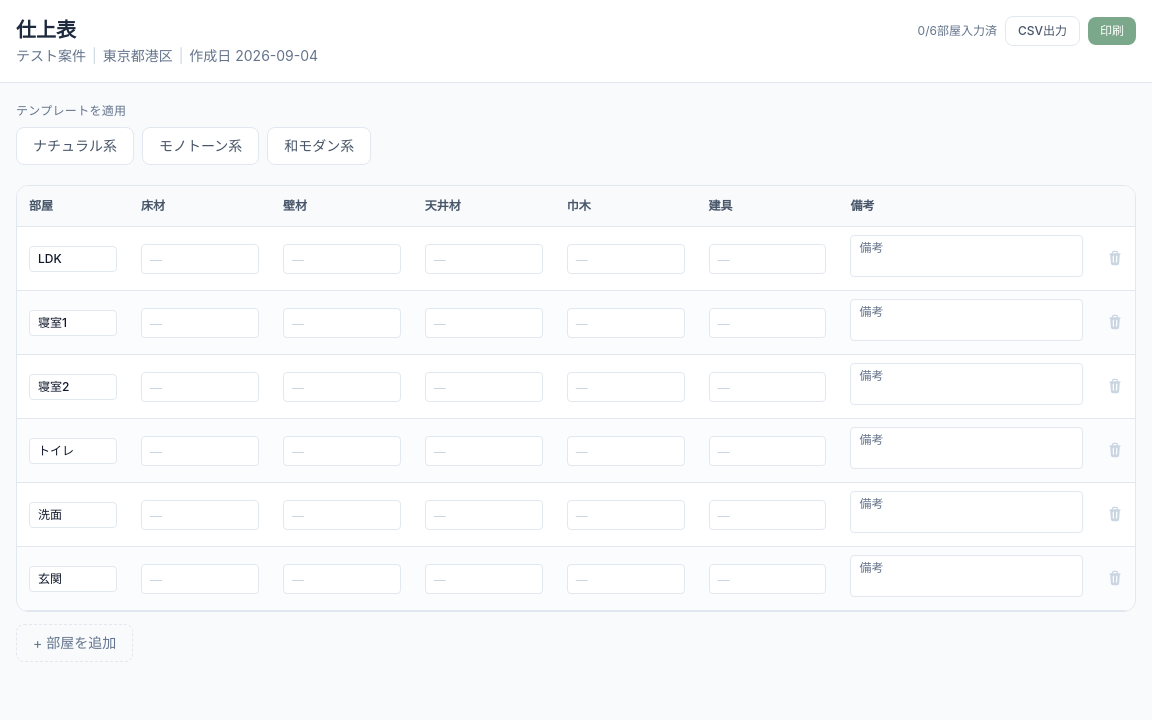
Test: FinishingSchedulePage — セル編集 › ドロップダウンから候補を選択するとセルに反映される
Click the 1st button with test id "cell-button-床材".
click(200, 258)  # box [141,244,259,274]
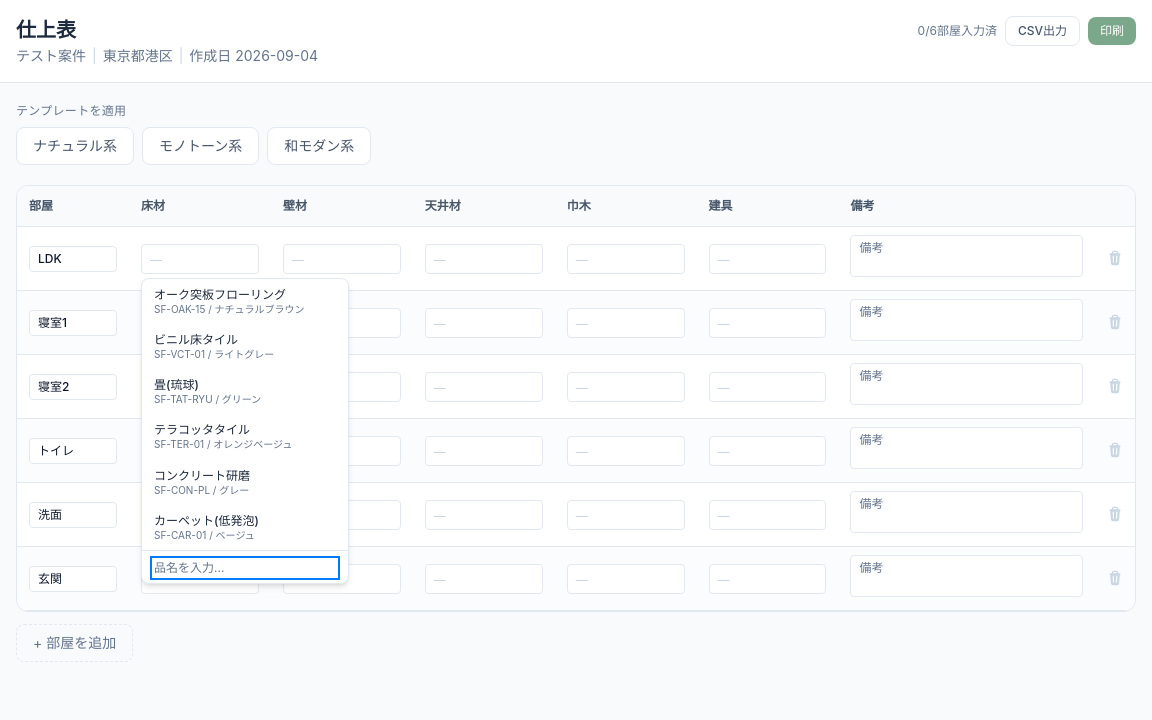
Expected: the element with test id "cell-dropdown-床材" is shown, [141,278,349,584]
Click the button "オーク突板フローリング SF-OAK-15 / ナチュラルブラウン".
click(245, 301)  # box [142,278,348,324]
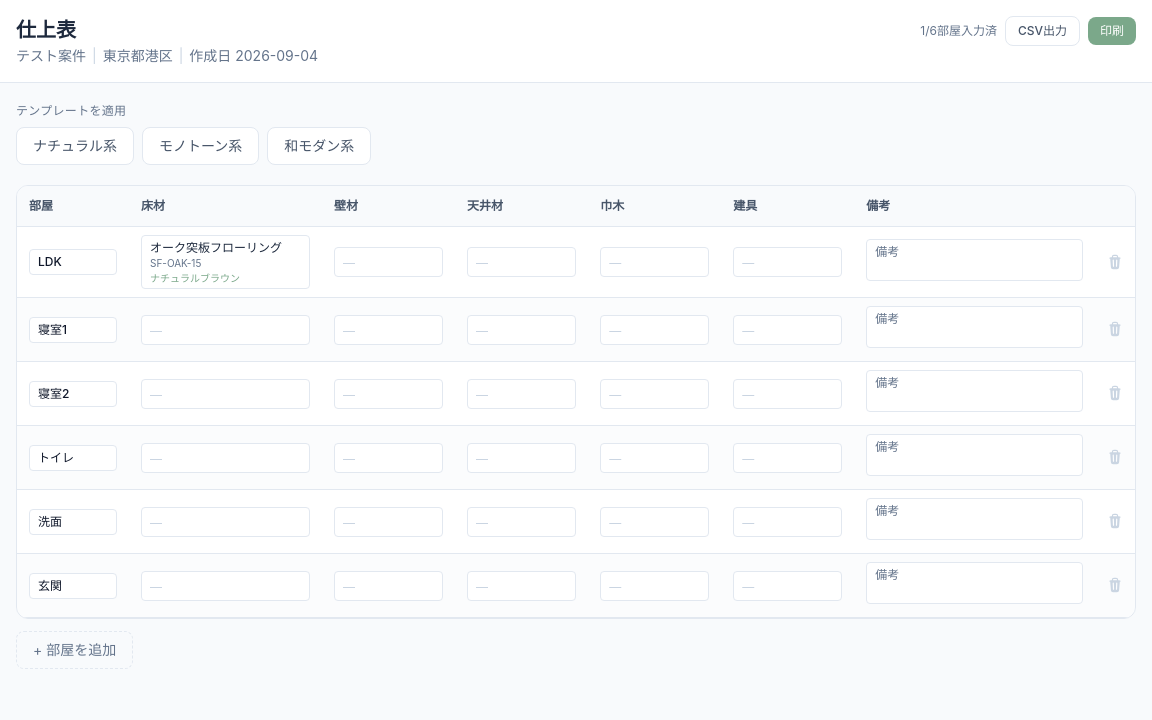
Expected: the button with test id "cell-button-床材" shows "オーク突板フローリング", [141,235,310,289]
